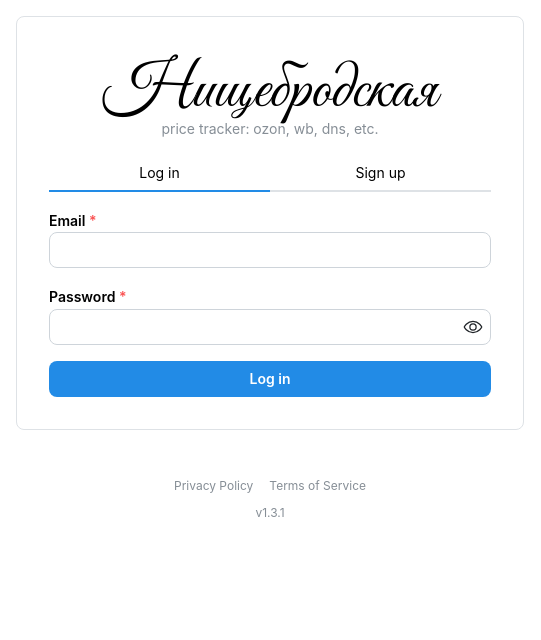
tells a wrong email or password in its own words, not in those of the hub
Type "jane@example.com" into the field labelled "Email *". click: (270, 250)
box: left=49, top=232, right=491, bottom=268
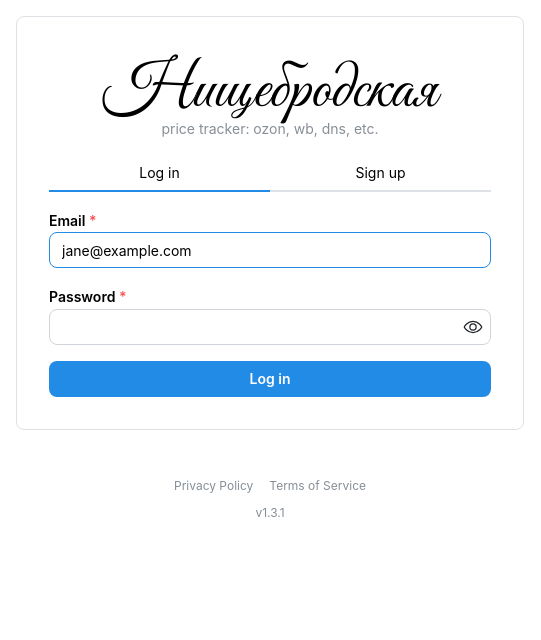
Type "secret-pass" into the password field labelled "Password *". click: (270, 327)
box: left=50, top=310, right=490, bottom=344
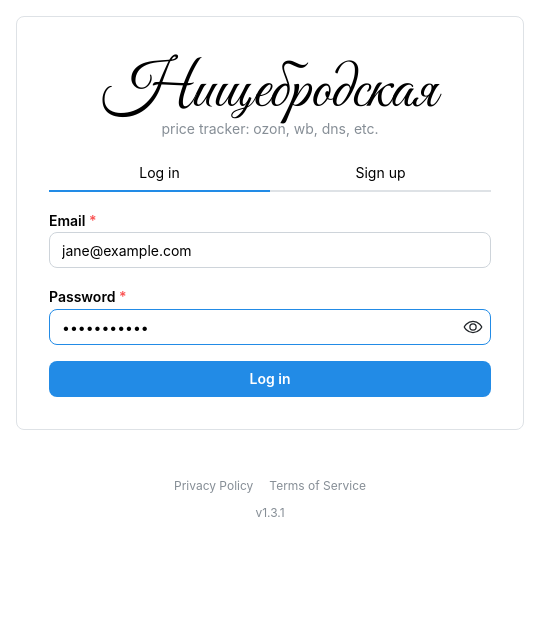
Click the button "Log in". click: (270, 379)
box: left=49, top=361, right=491, bottom=397
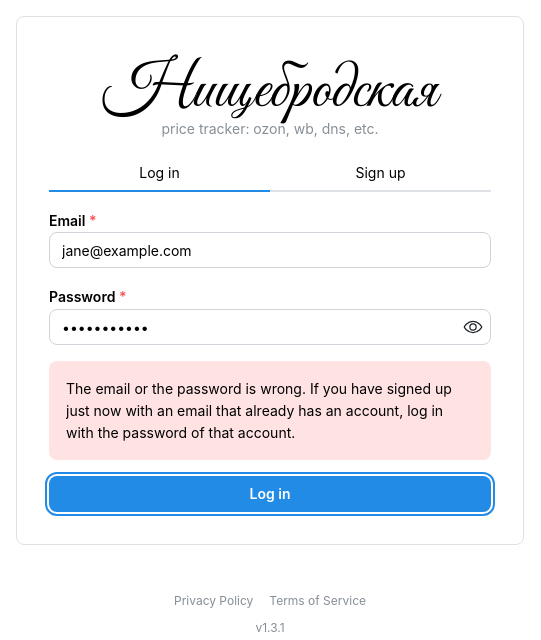
Expected: the message shows "The email or the password is wrong.", left=66, top=380, right=452, bottom=441
